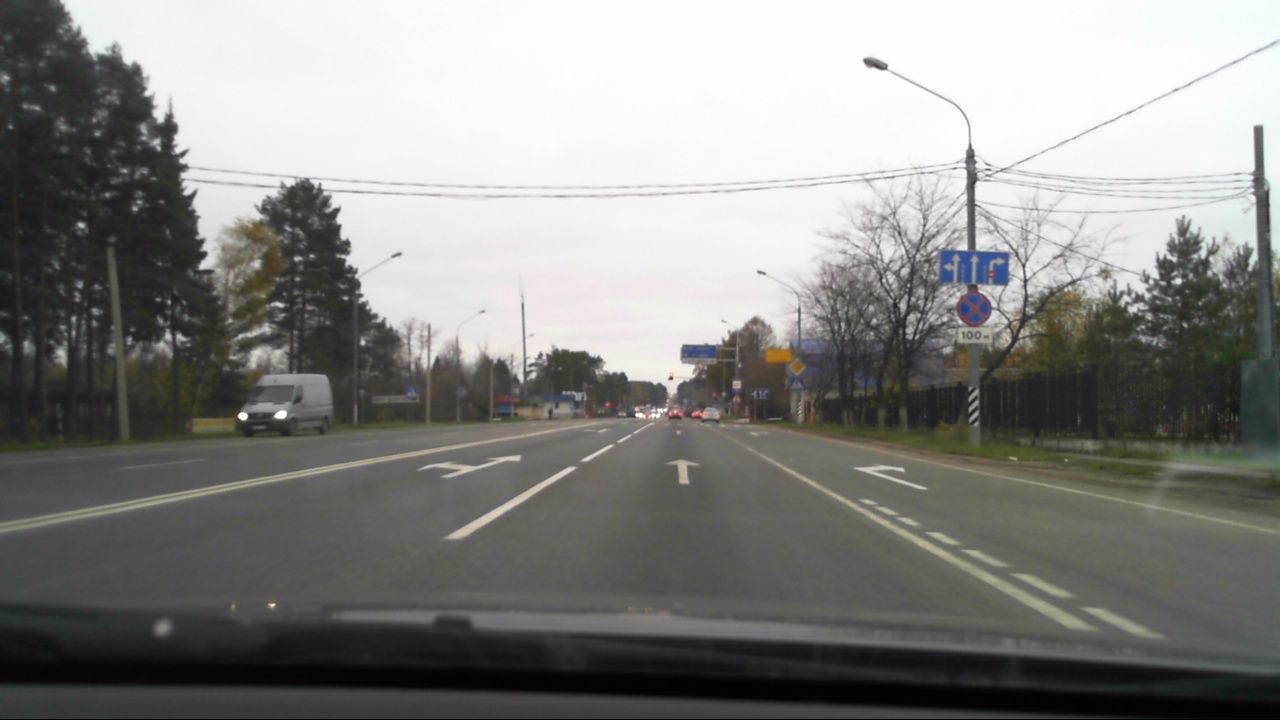No Parking: (955, 292, 991, 327)
